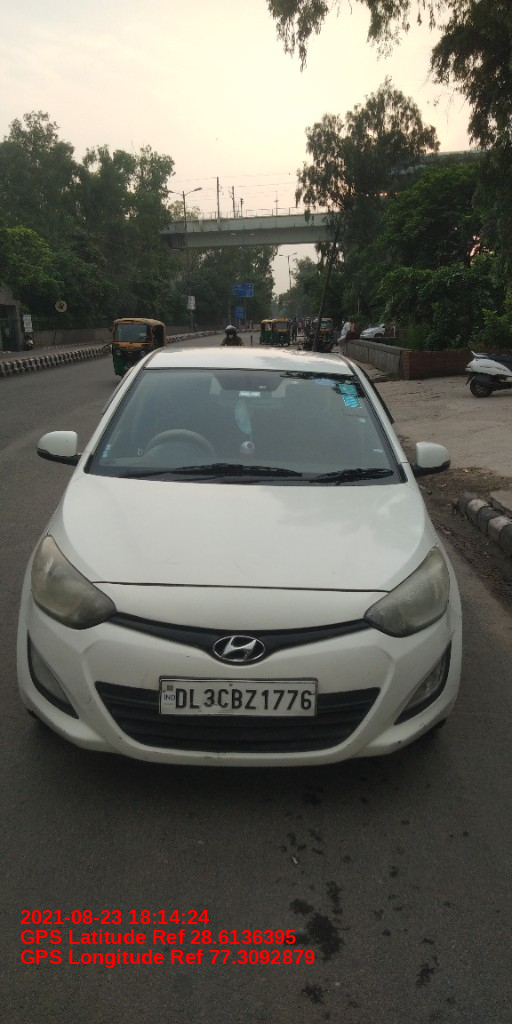Scratched: (442, 596, 463, 642), (80, 689, 99, 714), (199, 751, 230, 764), (416, 717, 433, 734), (383, 737, 404, 749), (114, 731, 130, 744), (183, 651, 195, 661)
